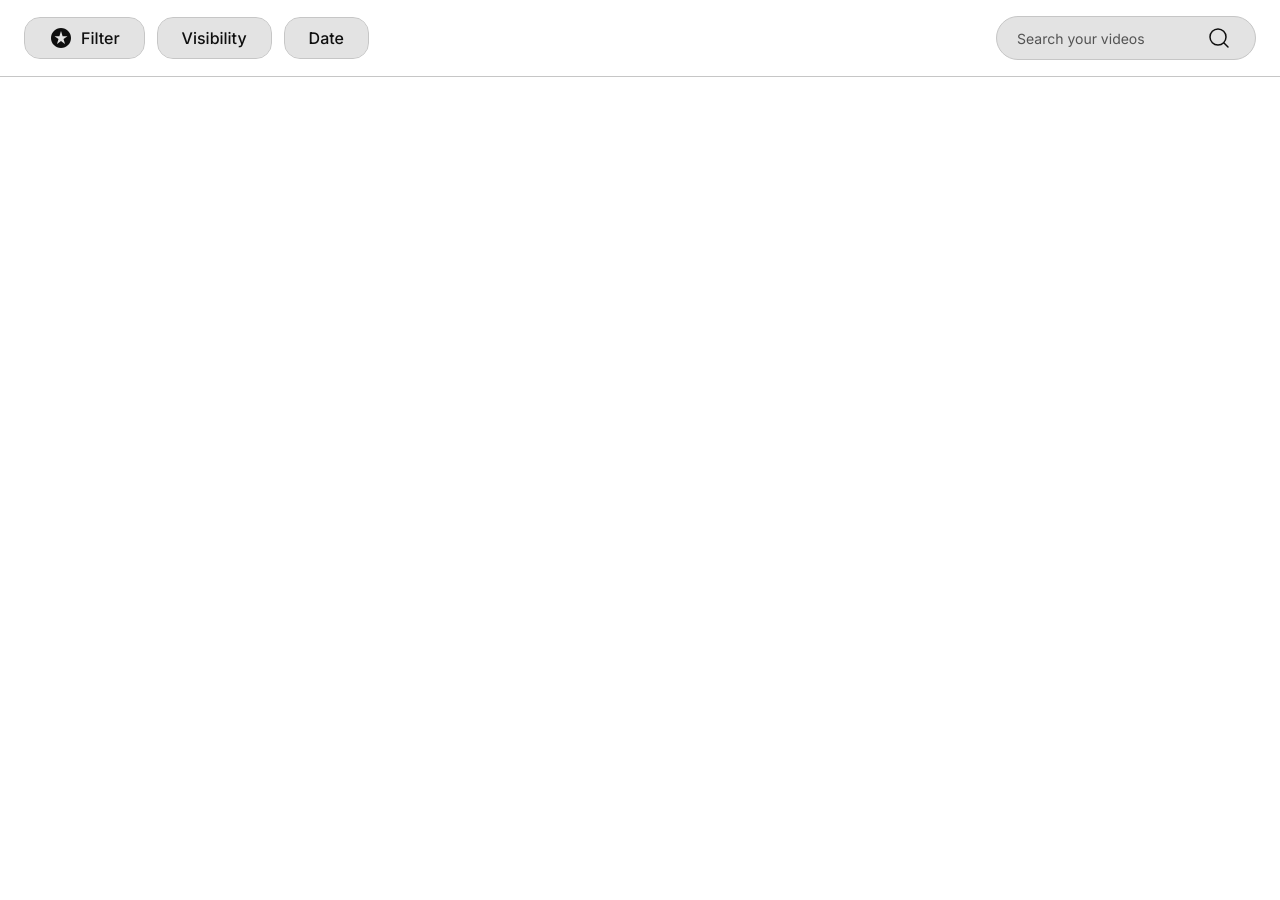
Test: VideoFilters — date range › applies from/to and closes the dialog
The width and height of the screenshot is (1280, 900).
Click the button "Date" at (326, 38), box x1=284 y1=17 x2=369 y2=59
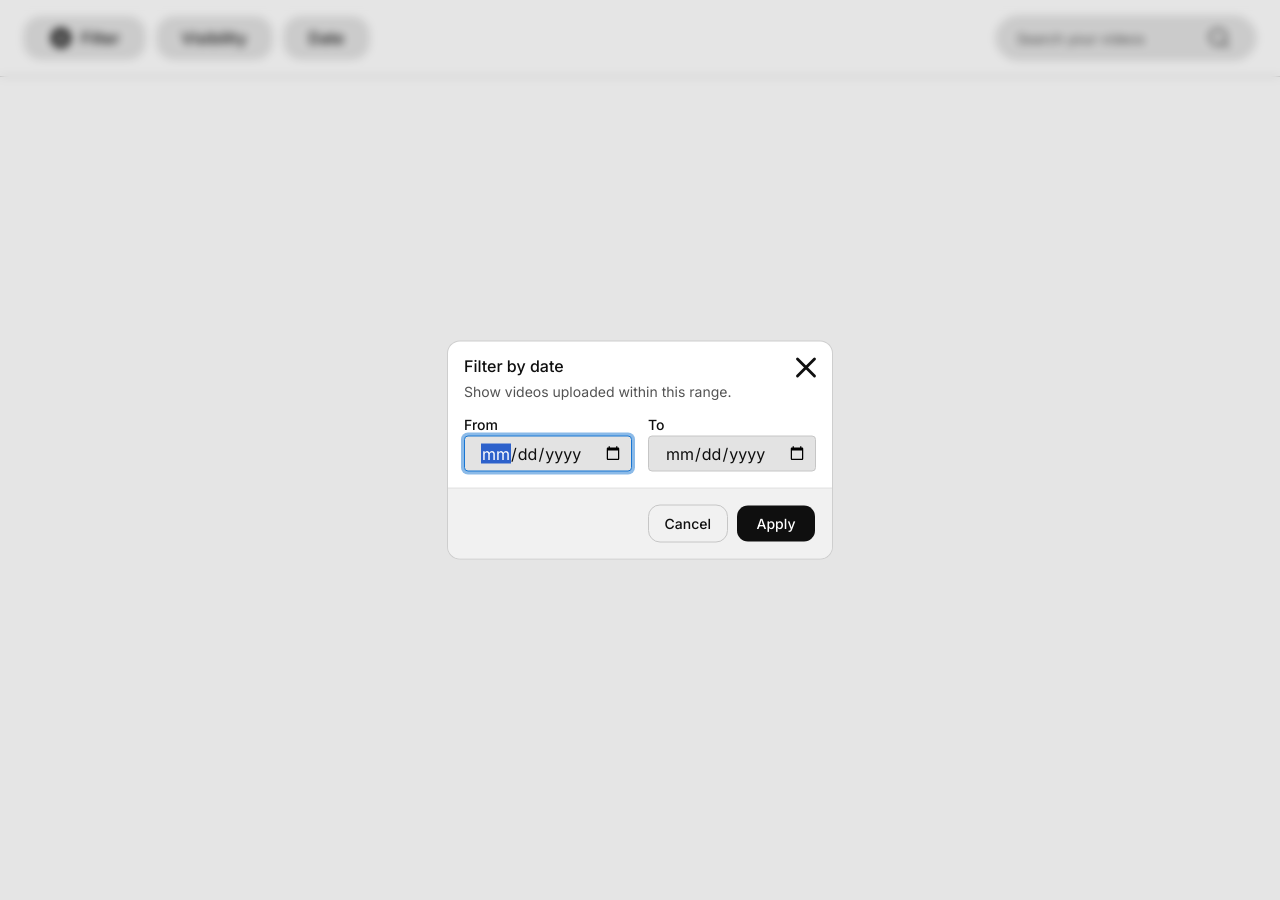
Type "2026-10-01" into the date field labelled "From" at (548, 454), box x1=464 y1=436 x2=632 y2=472
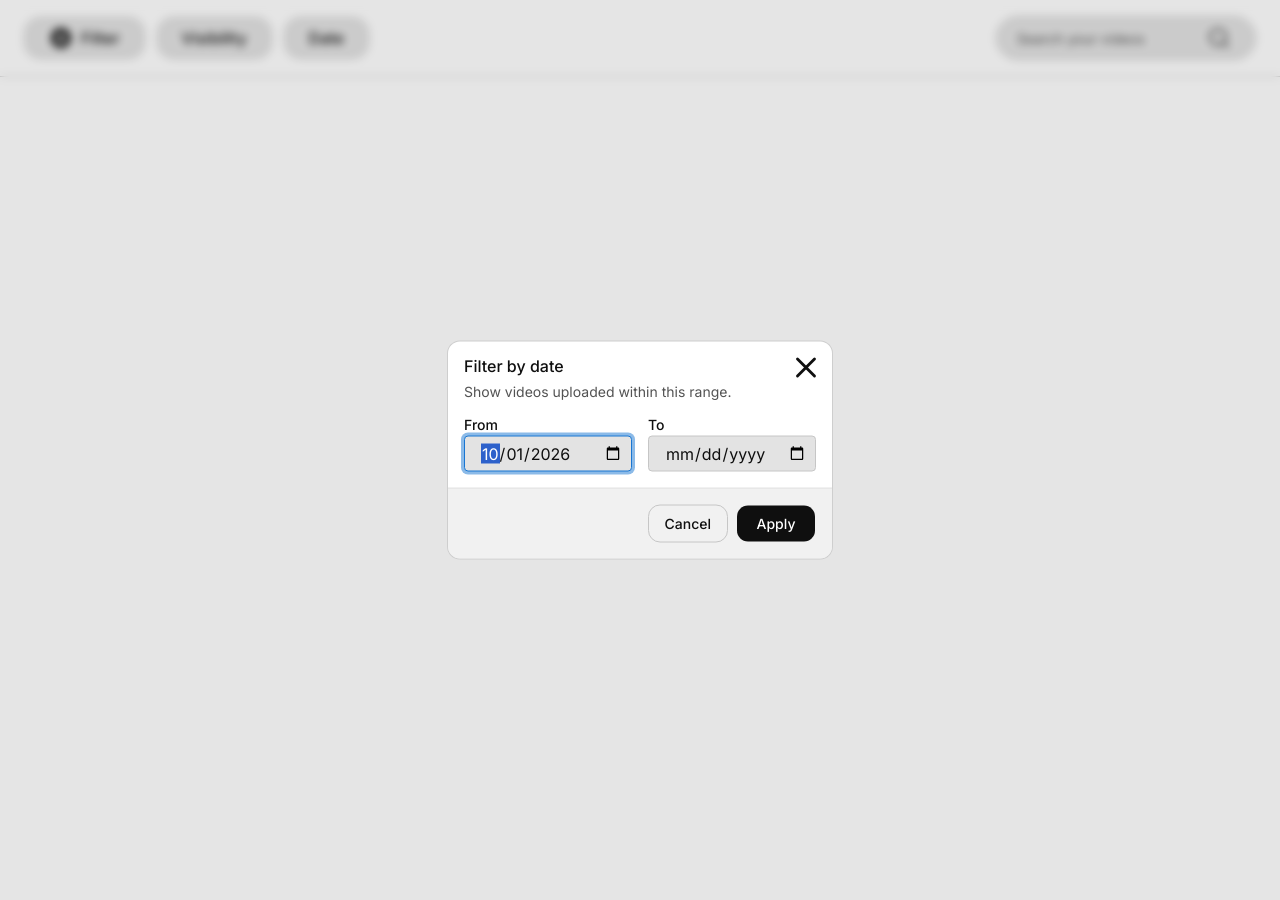
Type "2026-10-19" into the date field labelled "To" at (732, 454), box x1=648 y1=436 x2=816 y2=472
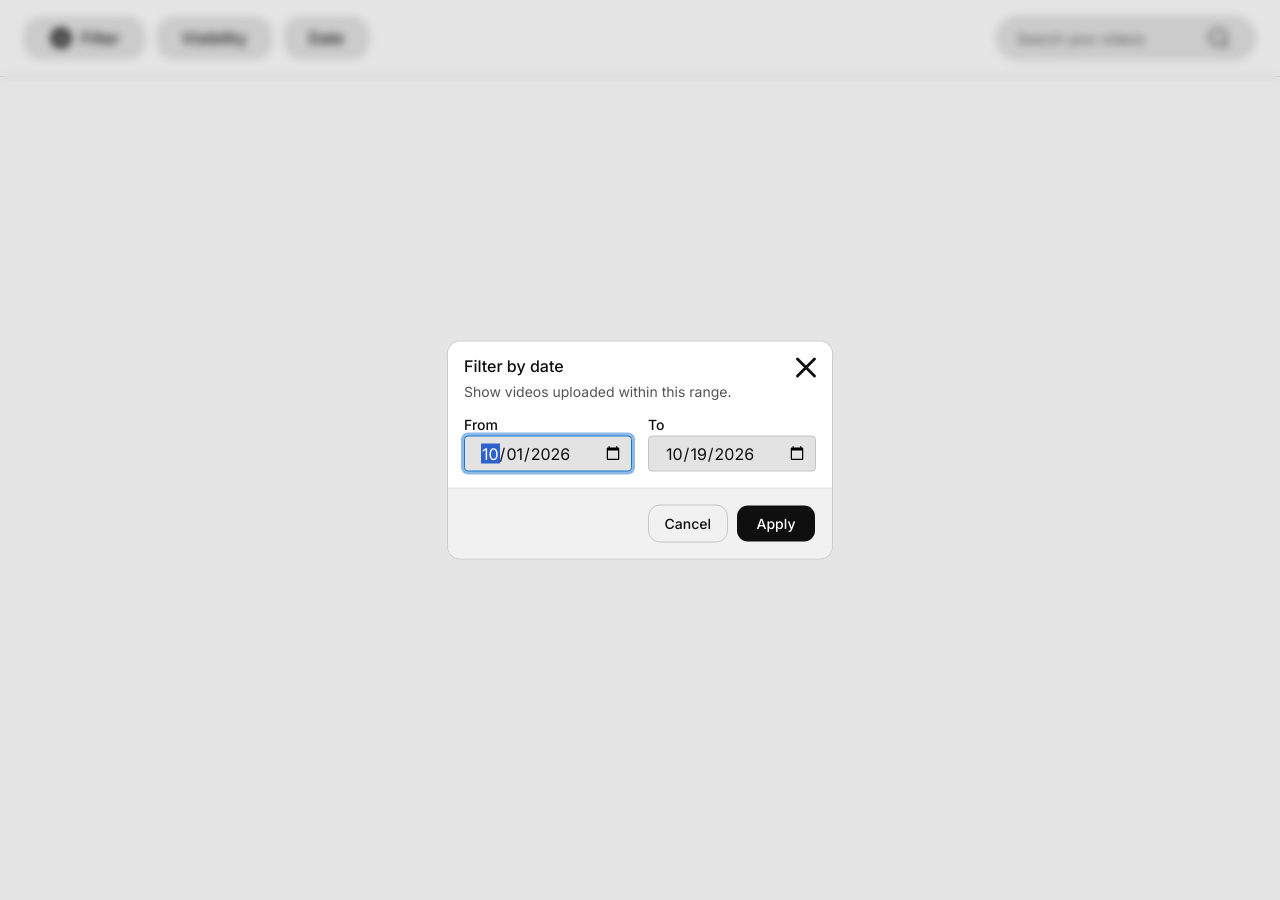
Click the button "Apply" at (776, 524), box x1=736 y1=504 x2=816 y2=542
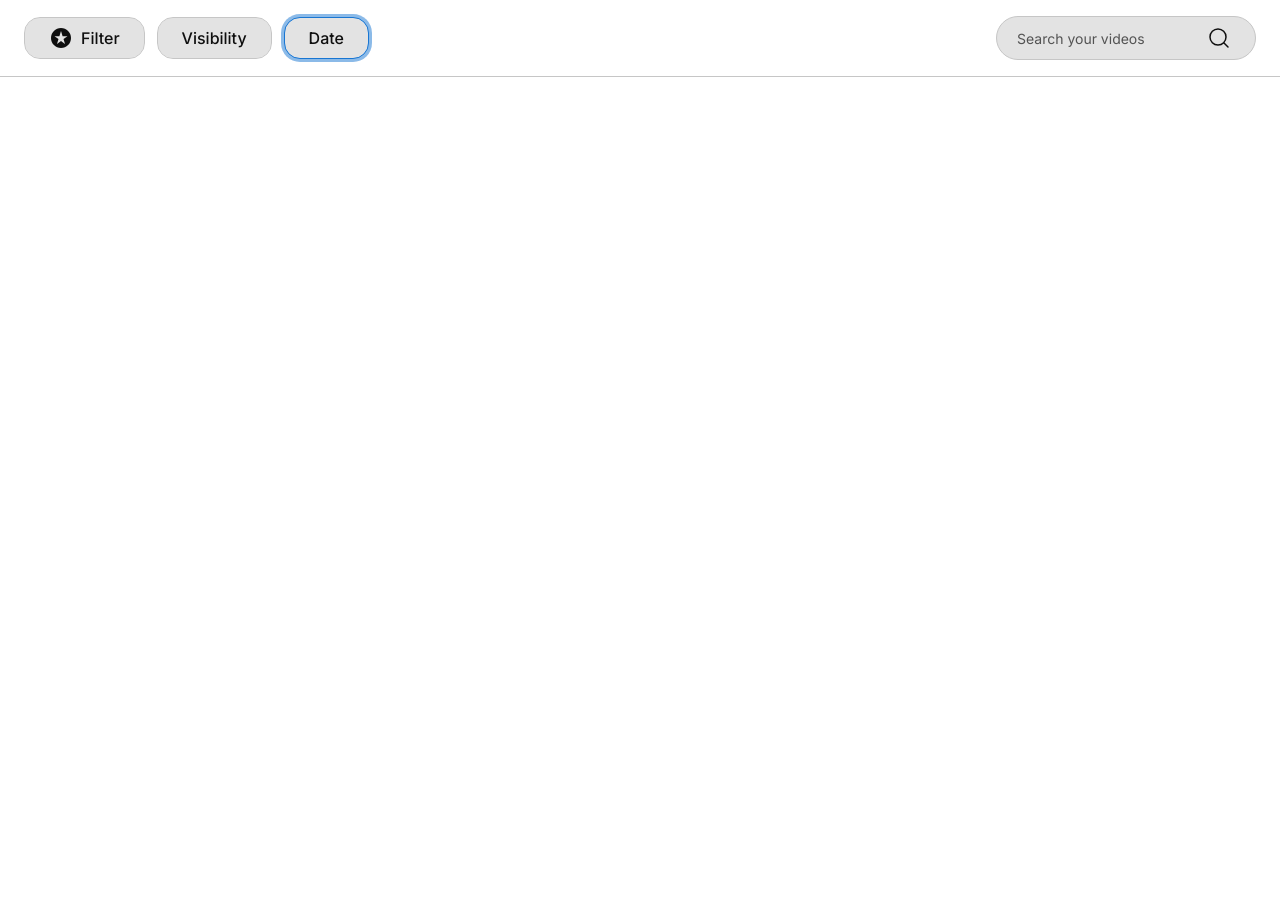
Check: the dialog is gone
